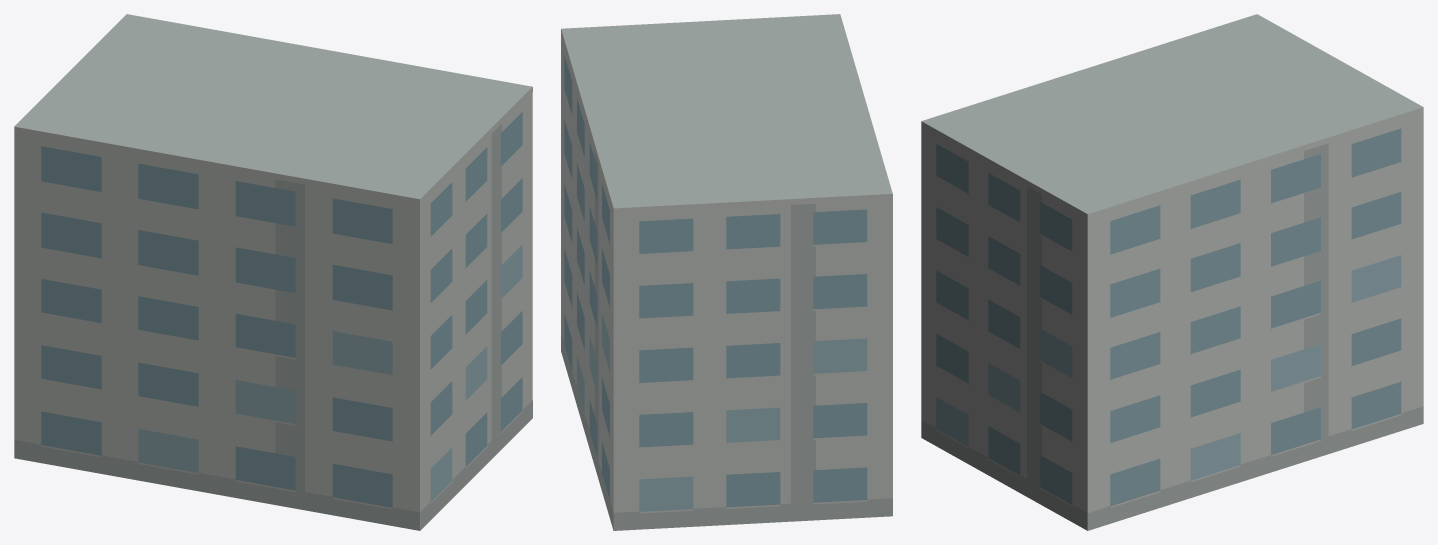
Rendered from residential-f2543d00-8236-4207-81f4-4549f7906777.glb.
The picture shows the model from 3 angles, left to right: view 1: azimuth 30°, elevation 25°; view 2: azimuth 150°, elevation 25°; view 3: azimuth 270°, elevation 25°; orthographic projection. The views are drawn at different scales.
Parts seen in each view (by area): view 1: residential-f2543d00-8236-4207-81f4-4549f7906777.tmp; view 2: residential-f2543d00-8236-4207-81f4-4549f7906777.tmp; view 3: residential-f2543d00-8236-4207-81f4-4549f7906777.tmp.
Boxes of the visible parts, x1,y1,x2,y2 form: residential-f2543d00-8236-4207-81f4-4549f7906777.tmp: [14, 14, 532, 530]; residential-f2543d00-8236-4207-81f4-4549f7906777.tmp: [561, 14, 892, 530]; residential-f2543d00-8236-4207-81f4-4549f7906777.tmp: [921, 14, 1423, 530].
Bounding box in the file's own units: 18.32 × 13.5 × 19.42.
